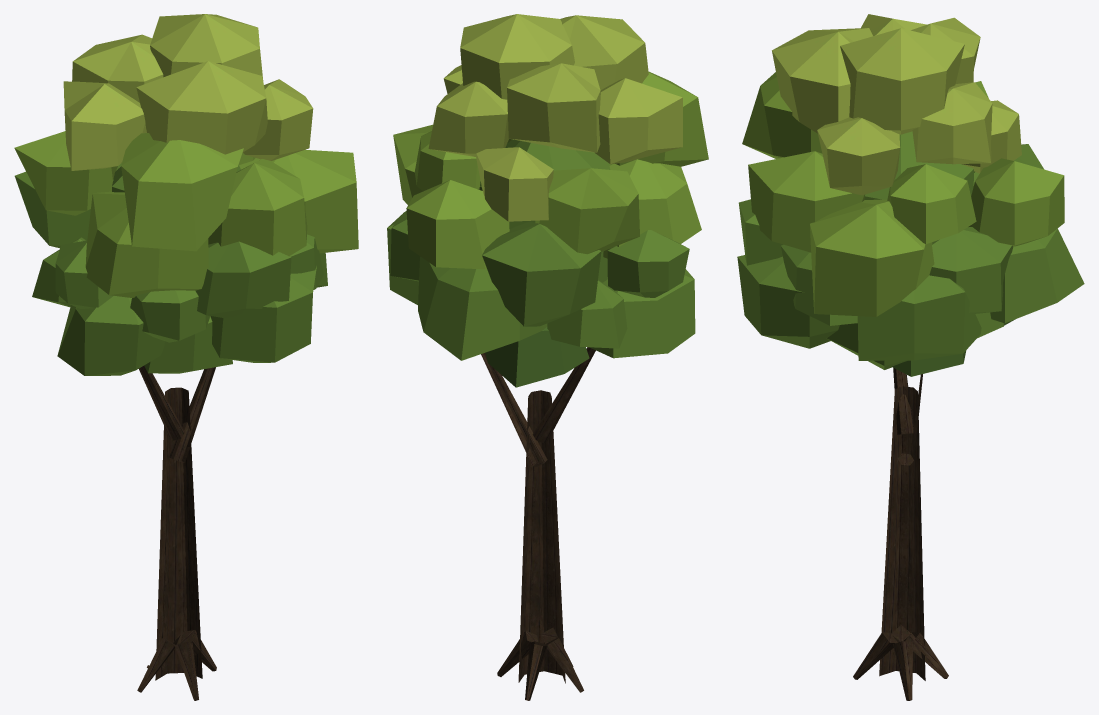
Rendered from tree_broadleaf_03.glb.
The picture shows the model from 3 angles, left to right: view 1: azimuth 30°, elevation 25°; view 2: azimuth 150°, elevation 25°; view 3: azimuth 270°, elevation 25°; orthographic projection.
Parts seen in each view (by area): view 1: tree_broadleaf_03; view 2: tree_broadleaf_03; view 3: tree_broadleaf_03.
Part boxes in pixels (x1,y1,x2,y2): tree_broadleaf_03: (14,14,358,700); tree_broadleaf_03: (387,14,708,700); tree_broadleaf_03: (737,14,1084,700).
Size of the model in its own units: 3.62 by 7.83 by 3.69.
Materials: 5 (2 with a texture image).
